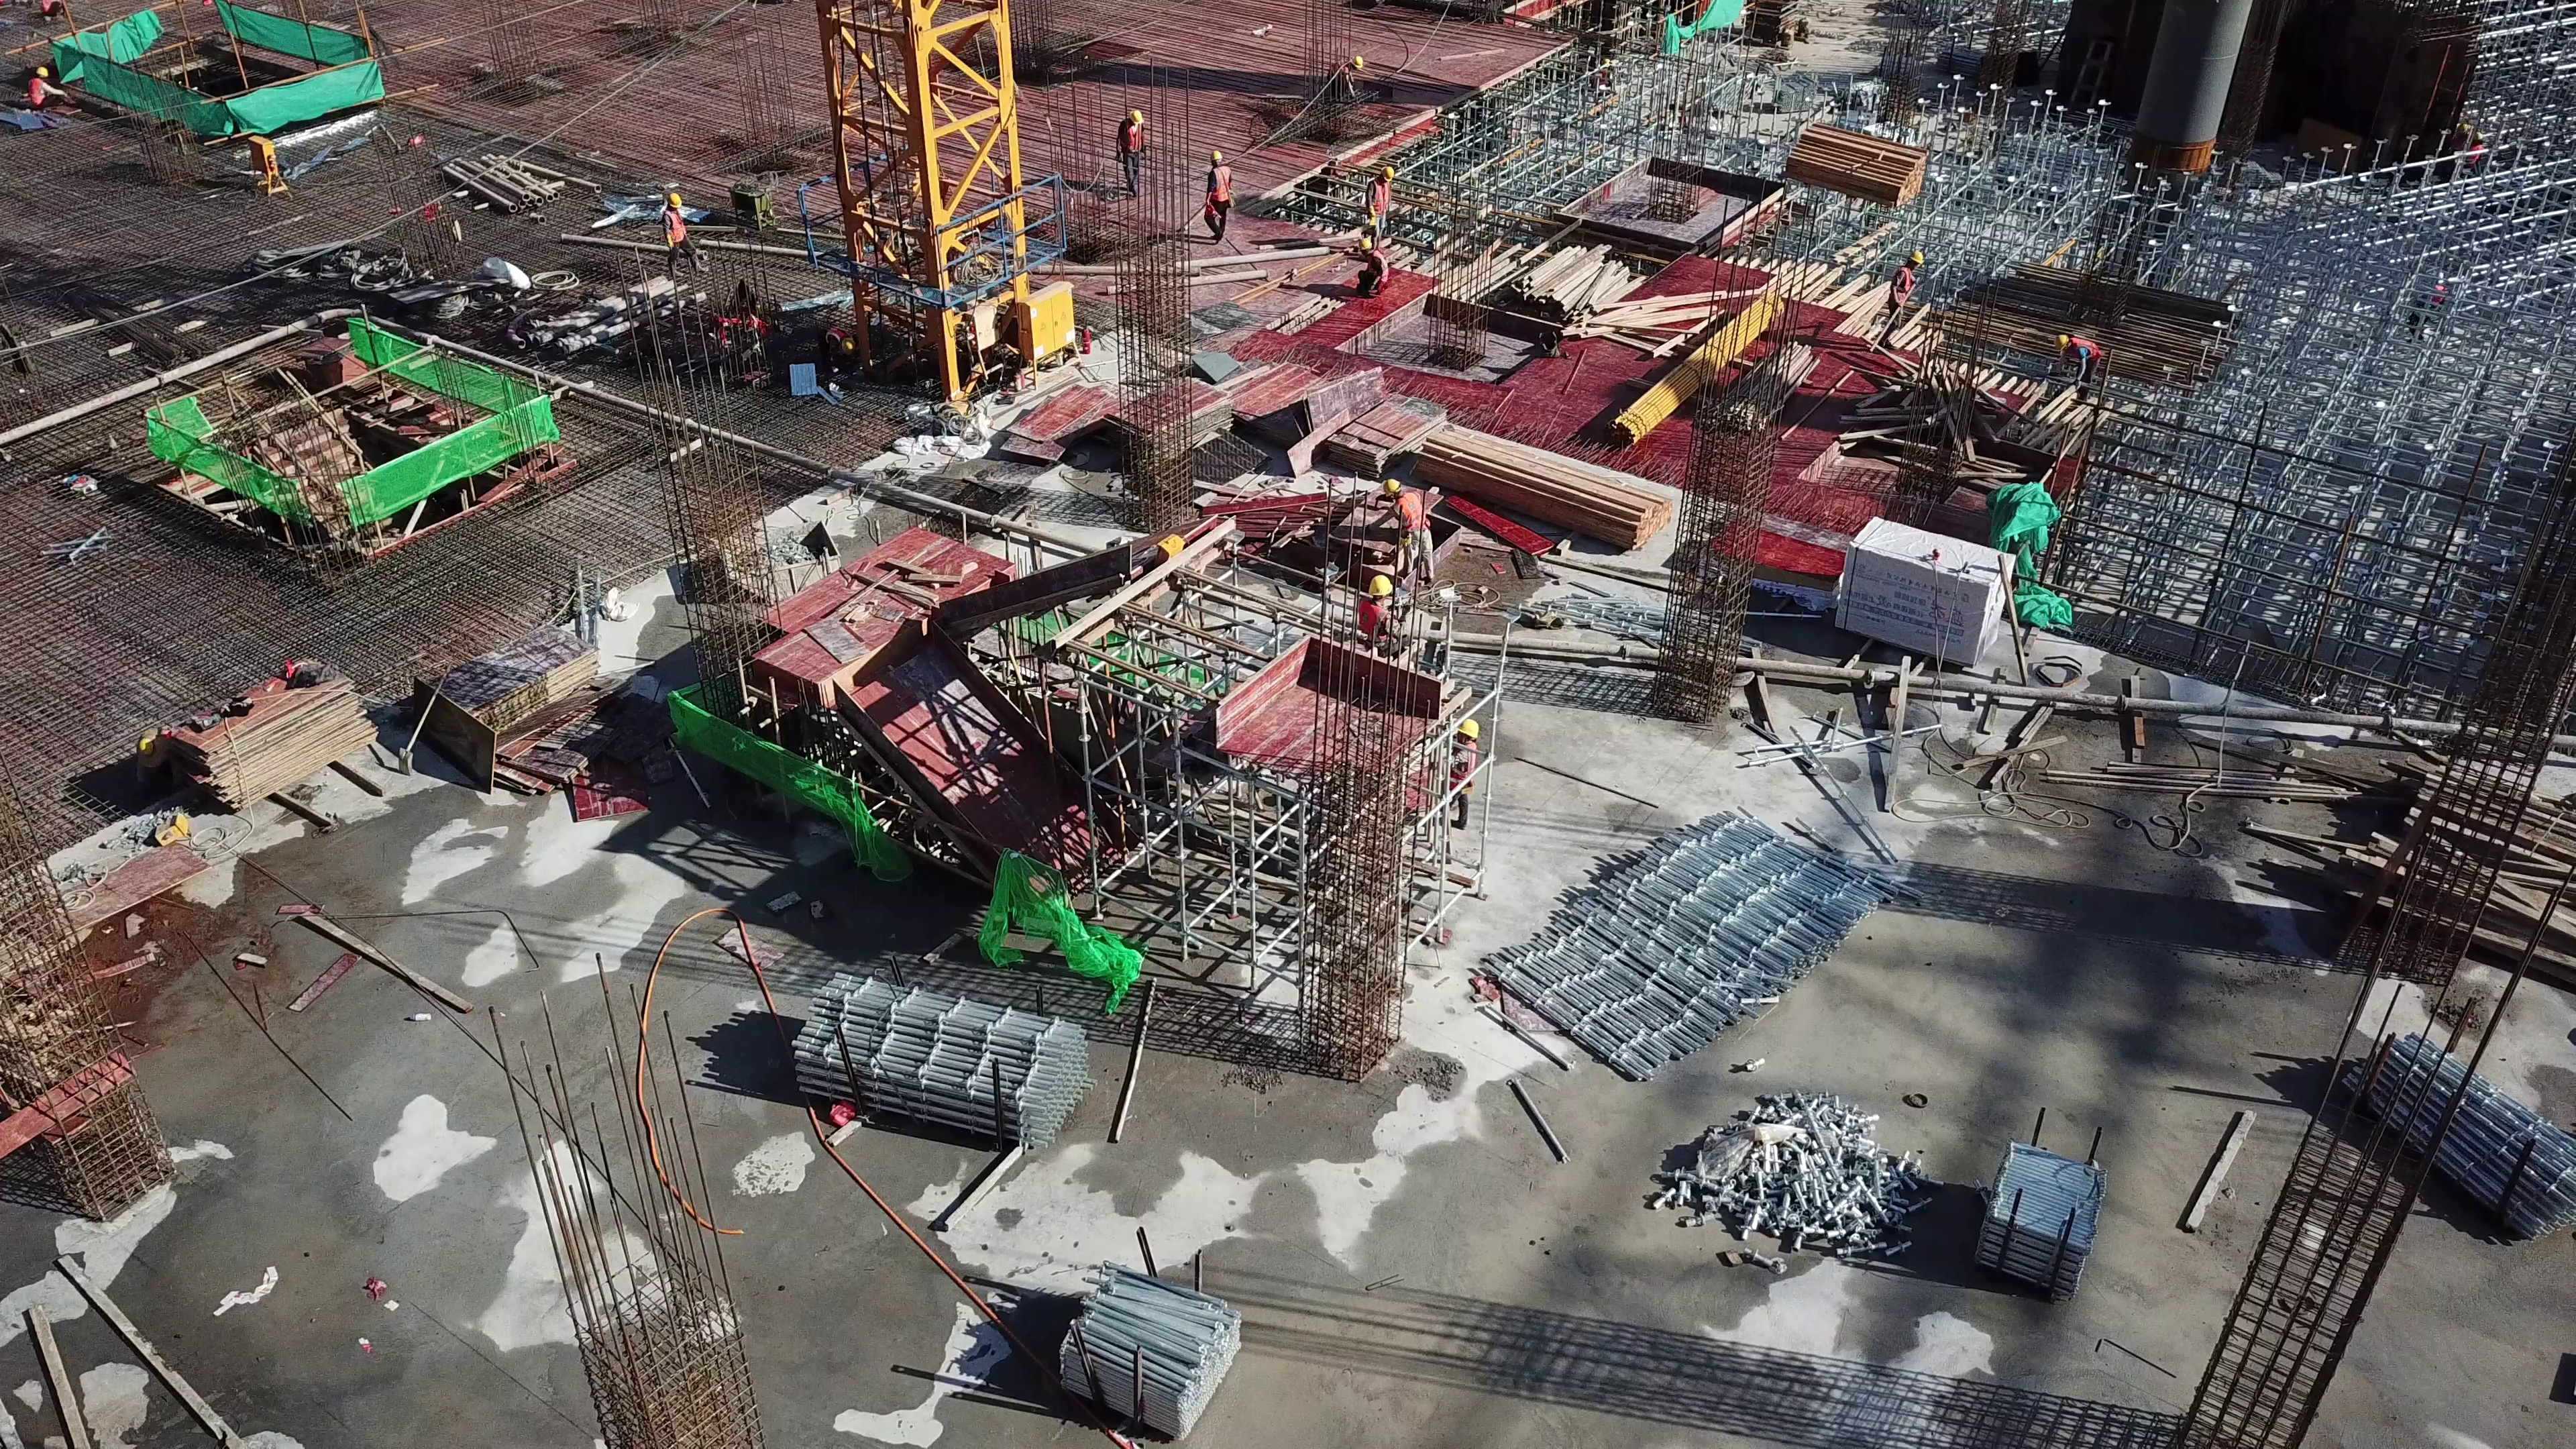board: (134, 645, 373, 826), (429, 628, 595, 777)
person: (2050, 325, 2108, 418), (1887, 237, 1925, 360), (1379, 470, 1429, 555), (1195, 144, 1234, 249), (653, 191, 694, 272), (1111, 106, 1146, 197), (1359, 158, 1397, 243), (1356, 573, 1403, 625)
scaffold: (1499, 806, 1898, 1089), (793, 955, 1082, 1165), (2330, 1030, 2576, 1254), (1059, 1273, 1240, 1449), (1974, 1144, 2106, 1302)
wood: (1417, 427, 1680, 558), (1481, 243, 1703, 348)
